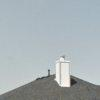Chimney: (50, 51, 74, 89)
